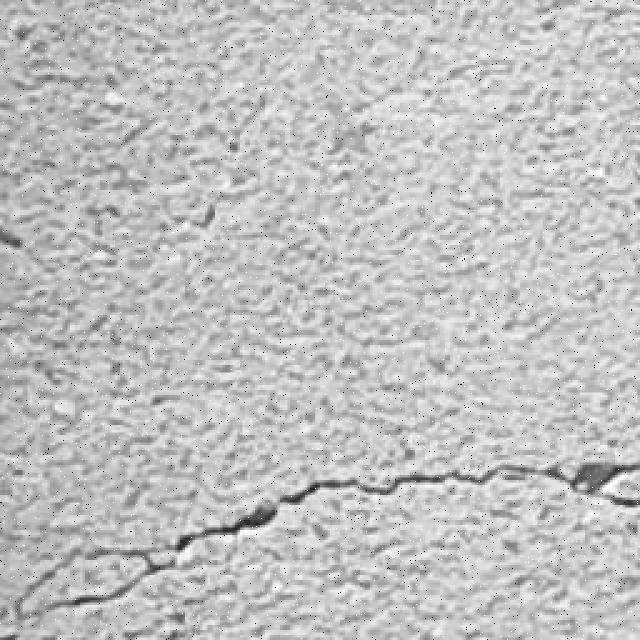minor crack: (2, 1, 637, 381), (4, 436, 636, 636)
moderate crack: (42, 562, 164, 606), (176, 500, 287, 546)
